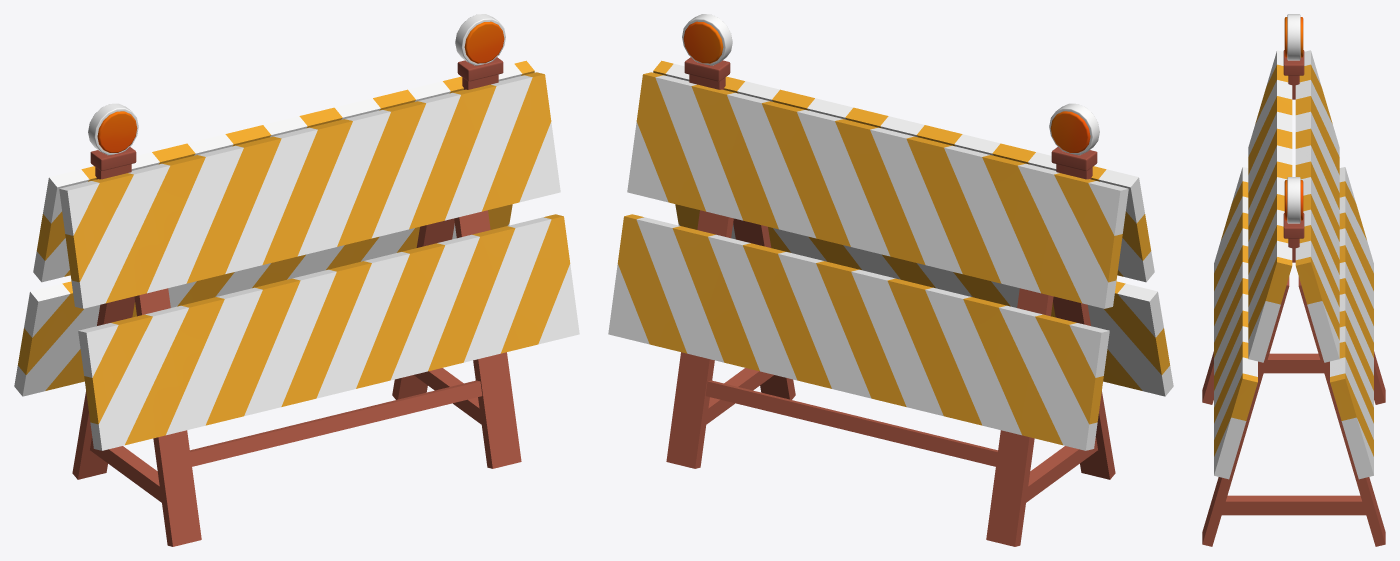
The model's file is Rao chan.fbx.
3 views of the same model, side by side, from view 1: azimuth 30°, elevation 25°; view 2: azimuth 150°, elevation 25°; view 3: azimuth 270°, elevation 25° (orthographic). The views are drawn at different scales.
Visible parts, largest first — view 1: Rao_chan; view 2: Rao_chan; view 3: Rao_chan.
Boxes of the visible parts, box(x1,y1,x2,y2) form: Rao_chan: box(14, 14, 579, 546); Rao_chan: box(608, 14, 1173, 546); Rao_chan: box(1202, 14, 1385, 546).
Bounding box in the file's own units: 265 × 217 × 96.73.
